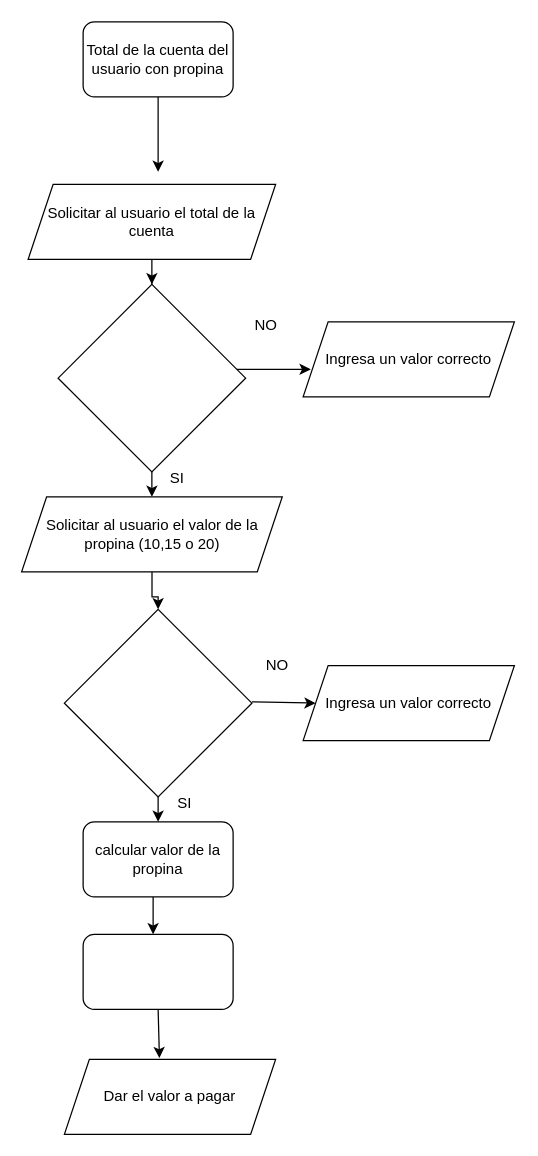
The diagram is 538 pixels wide and 1156 high, and some of its shapes have lost their labels. Here are the shapes that lost their labels. From the top down, the centre of each, then its label:
the point at 151,377: El valor ingresado es un valor correcto
the point at 157,702: El valor ingresado de la propina es 10, 15 o 20
the point at 157,971: sumar el total de la cuenta con la propina
